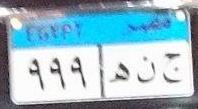9: (70, 55, 91, 90), (48, 55, 66, 90), (28, 57, 45, 94)
haa: (109, 61, 129, 86)
jeem: (161, 50, 184, 88)
noon: (135, 52, 159, 89)
